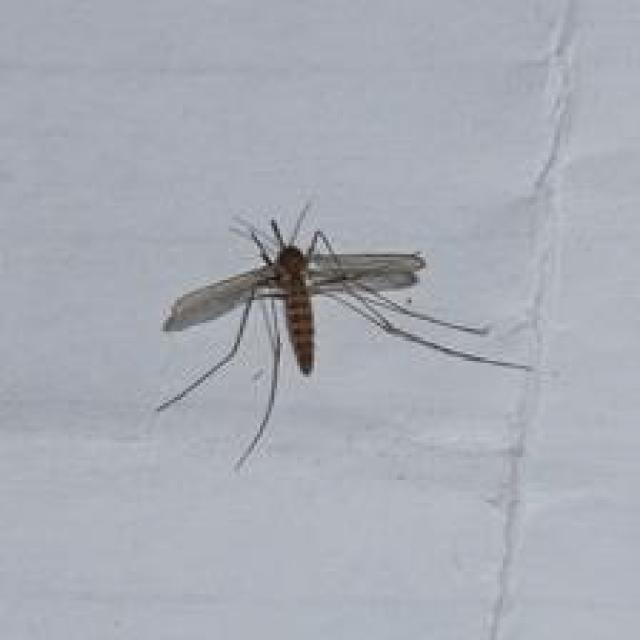Culex: (153, 200, 536, 471)
